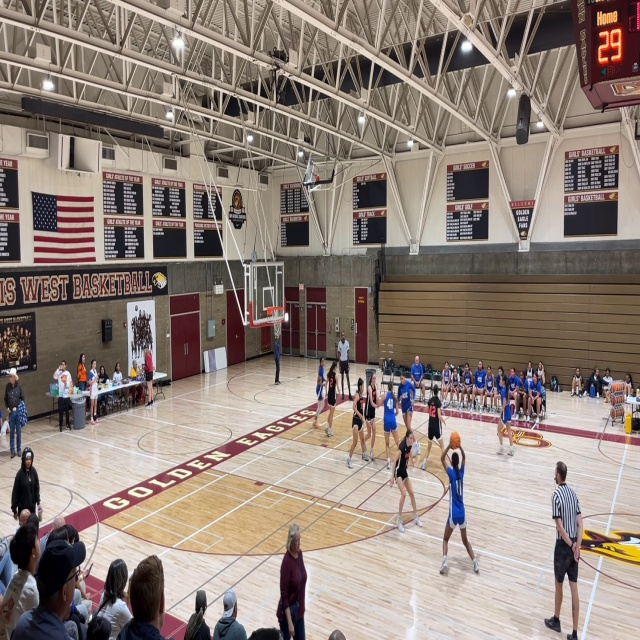Basketball: (450, 432, 460, 447)
